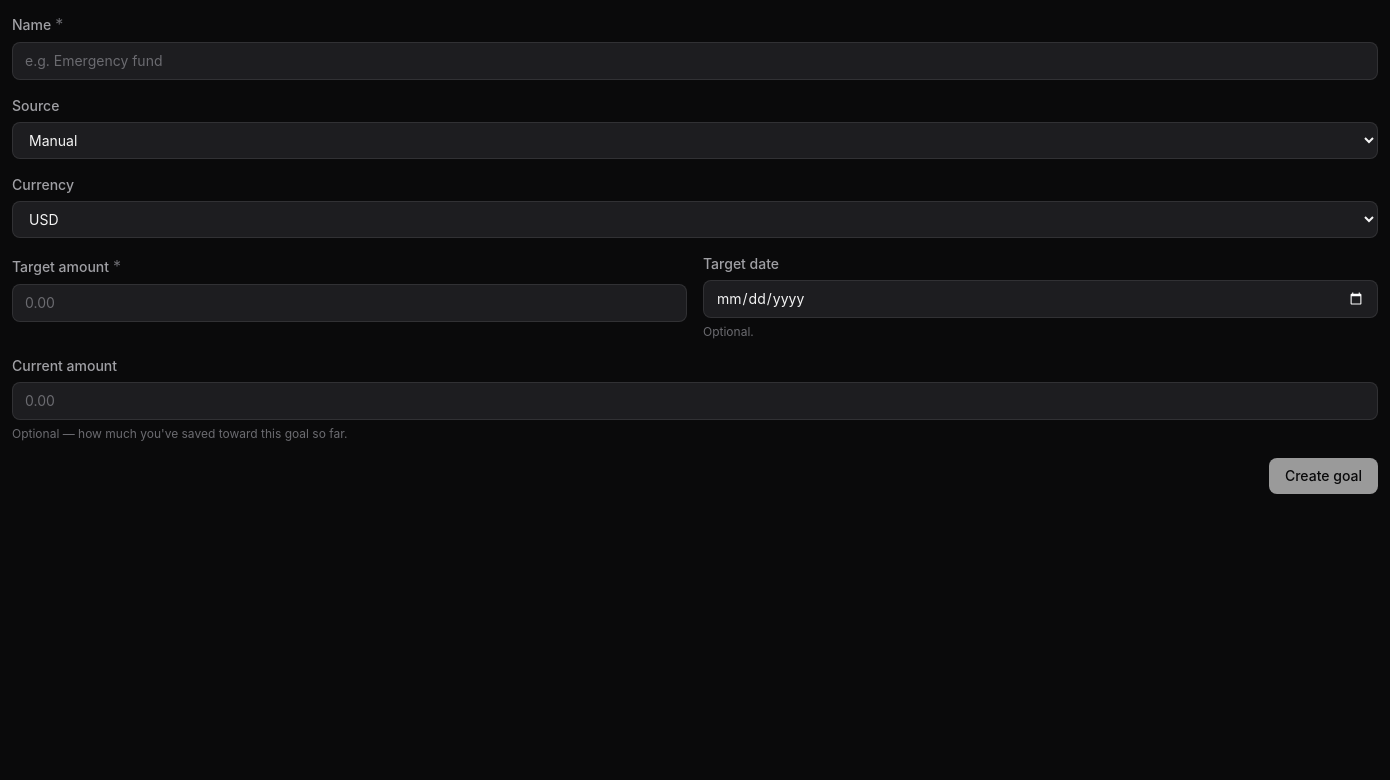
Test case: GoalForm › shows a friendly message on a currency mismatch
Type "X" into the field labelled "Name" at (695, 61), box x1=12 y1=42 x2=1378 y2=80
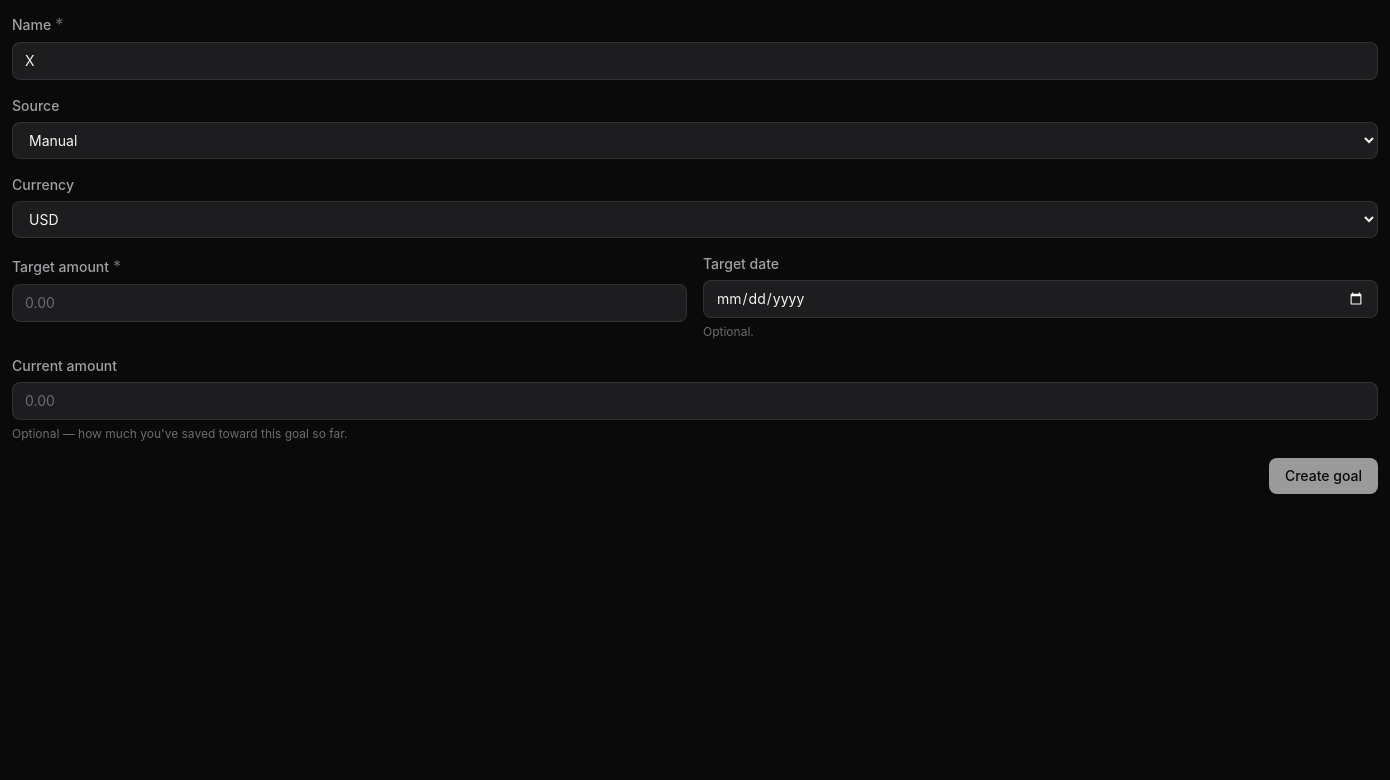
Type "10" into the field labelled "Target amount" at (350, 303), box x1=12 y1=284 x2=687 y2=322
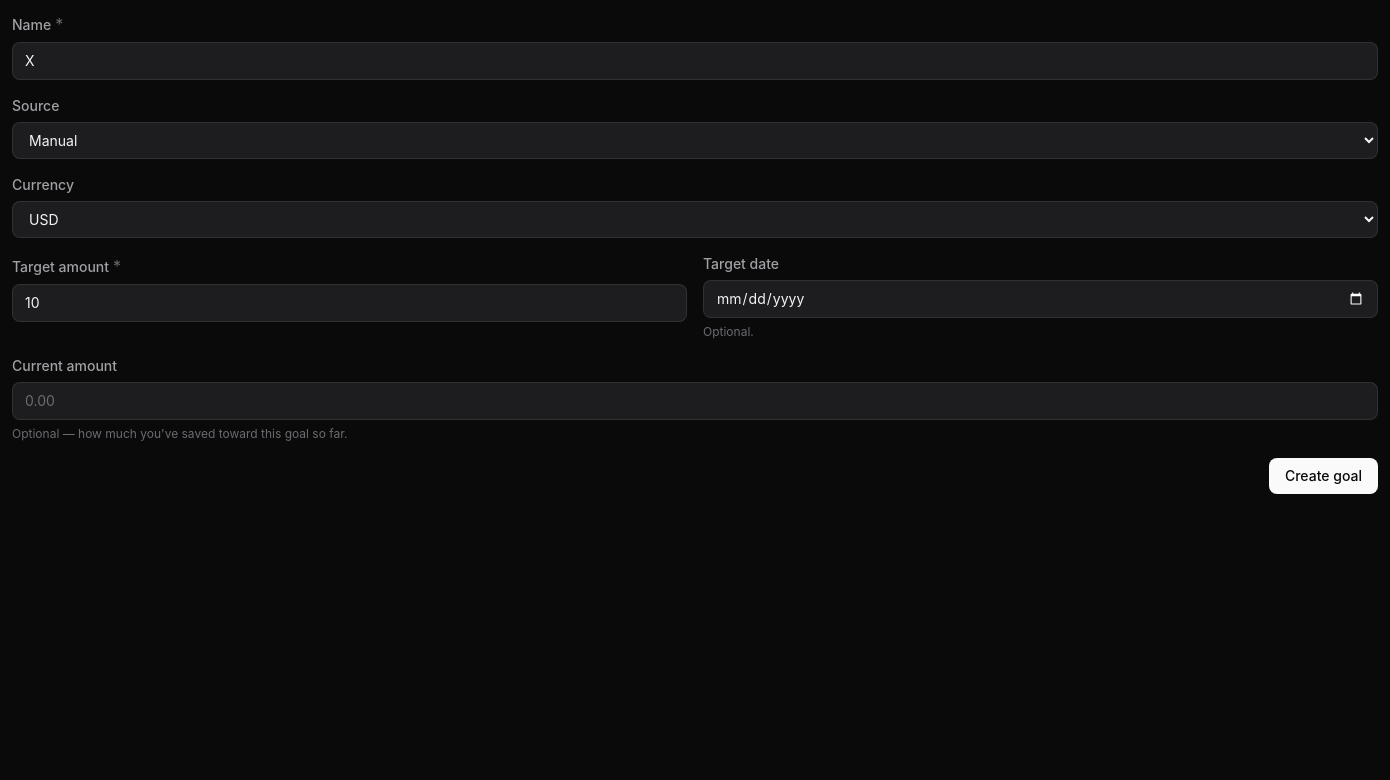
Click the button "Create goal" at (1323, 476), box x1=1269 y1=458 x2=1378 y2=494
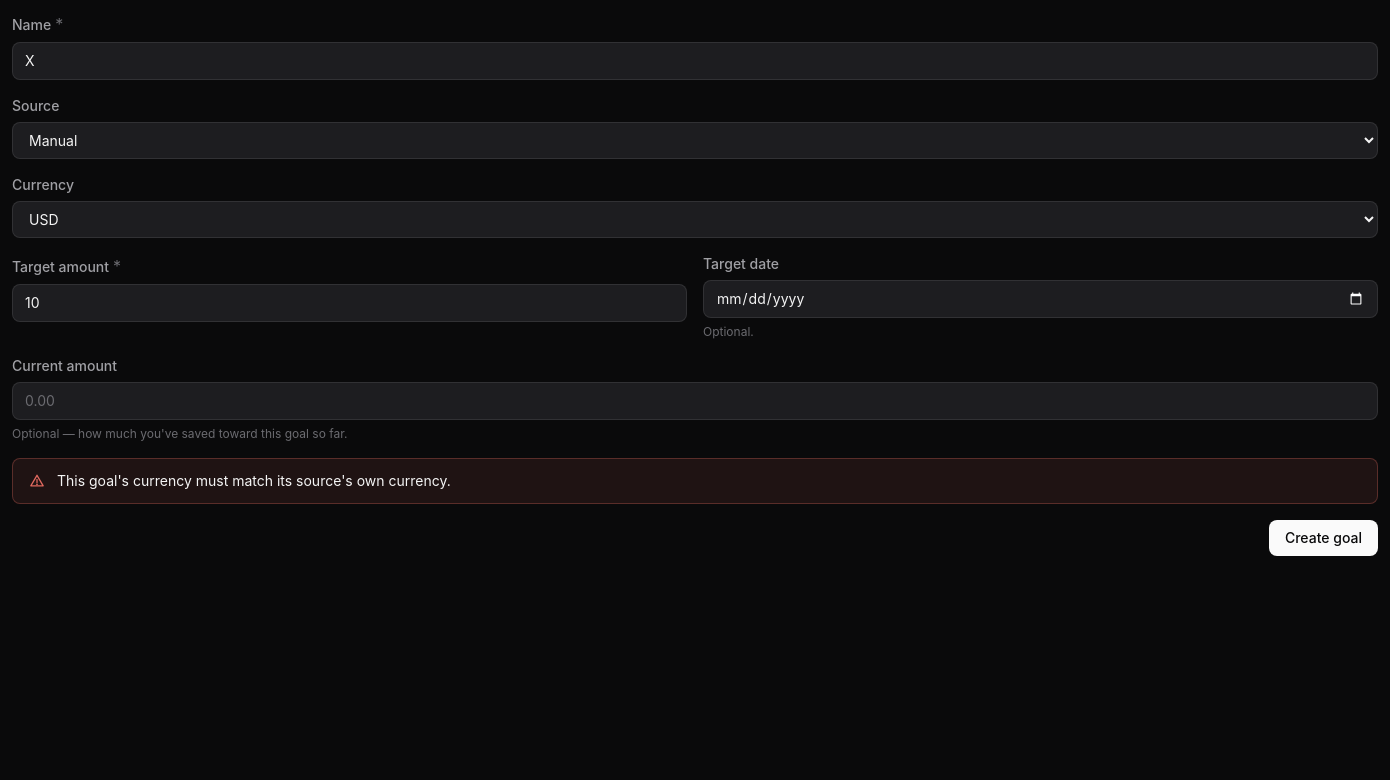
Result: the text "This goal's currency must match its source's own currency." is shown at x1=57 y1=471 x2=451 y2=491
